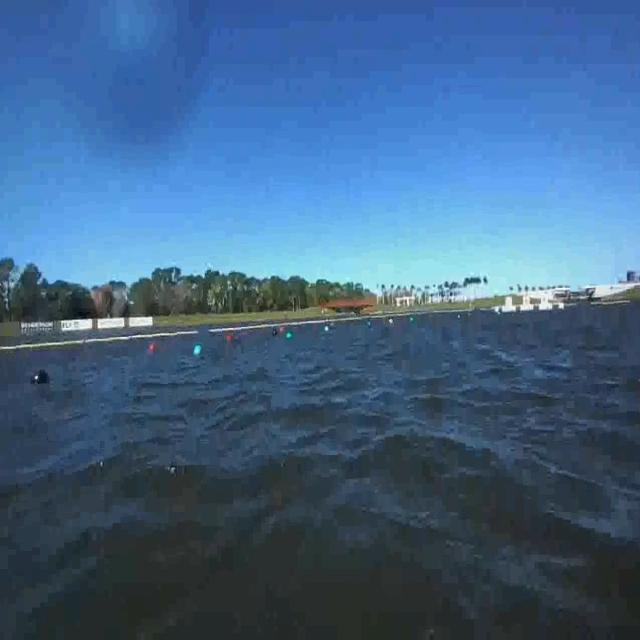black-buoy: (34, 366, 49, 392)
green-buoy: (193, 344, 201, 356)
red-buoy: (145, 340, 155, 350)
